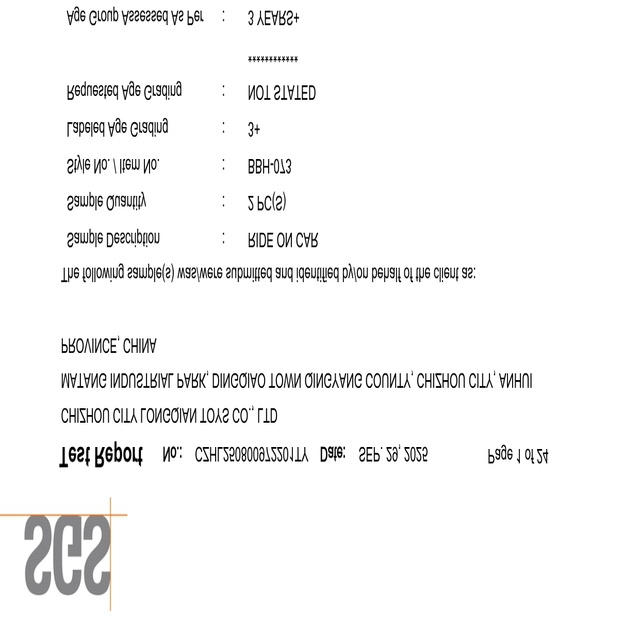sgs: (25, 514, 111, 596)
